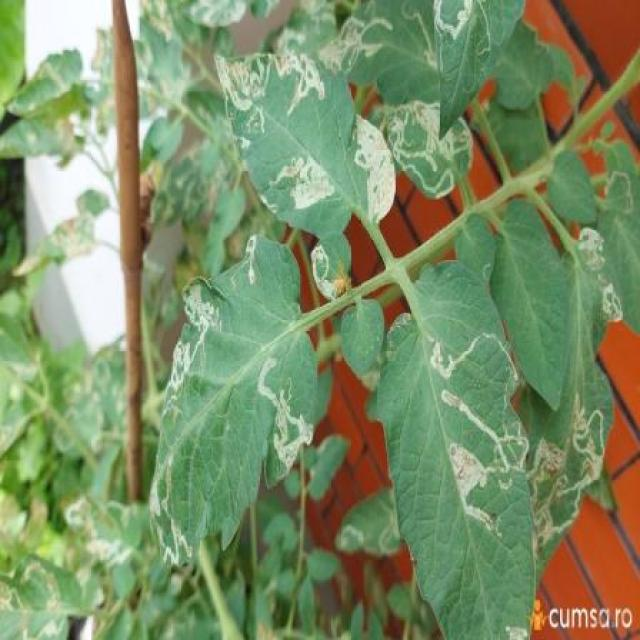Healthy: (491, 190, 572, 416)
Leaf Miner: (373, 260, 537, 640), (154, 234, 319, 579), (208, 47, 395, 240), (524, 227, 624, 562), (320, 0, 445, 104), (383, 98, 474, 203), (312, 232, 352, 302)
